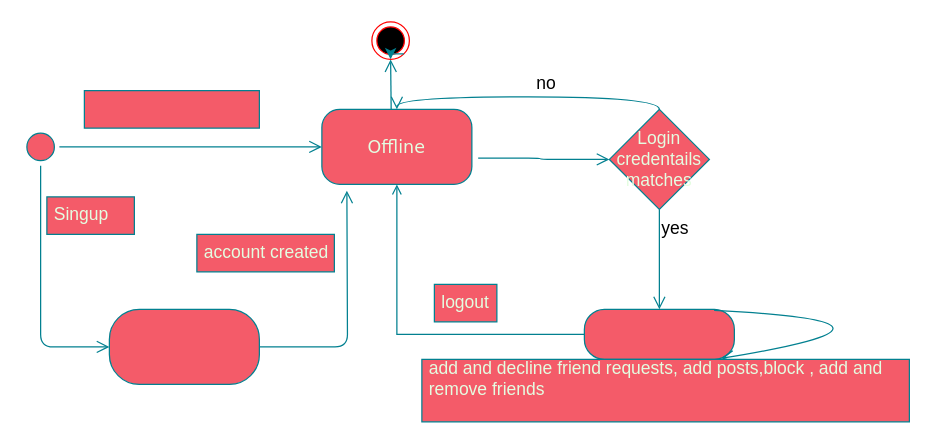
Some shapes in this 931 by 444 pixel diagram are drawn without their labels. The centre of each missing label's shape, as x and y in pixels:
"Create account" belongs at point 183,346.
"Credentials entered" belongs at point 171,108.
"Online" belongs at point 658,333.
